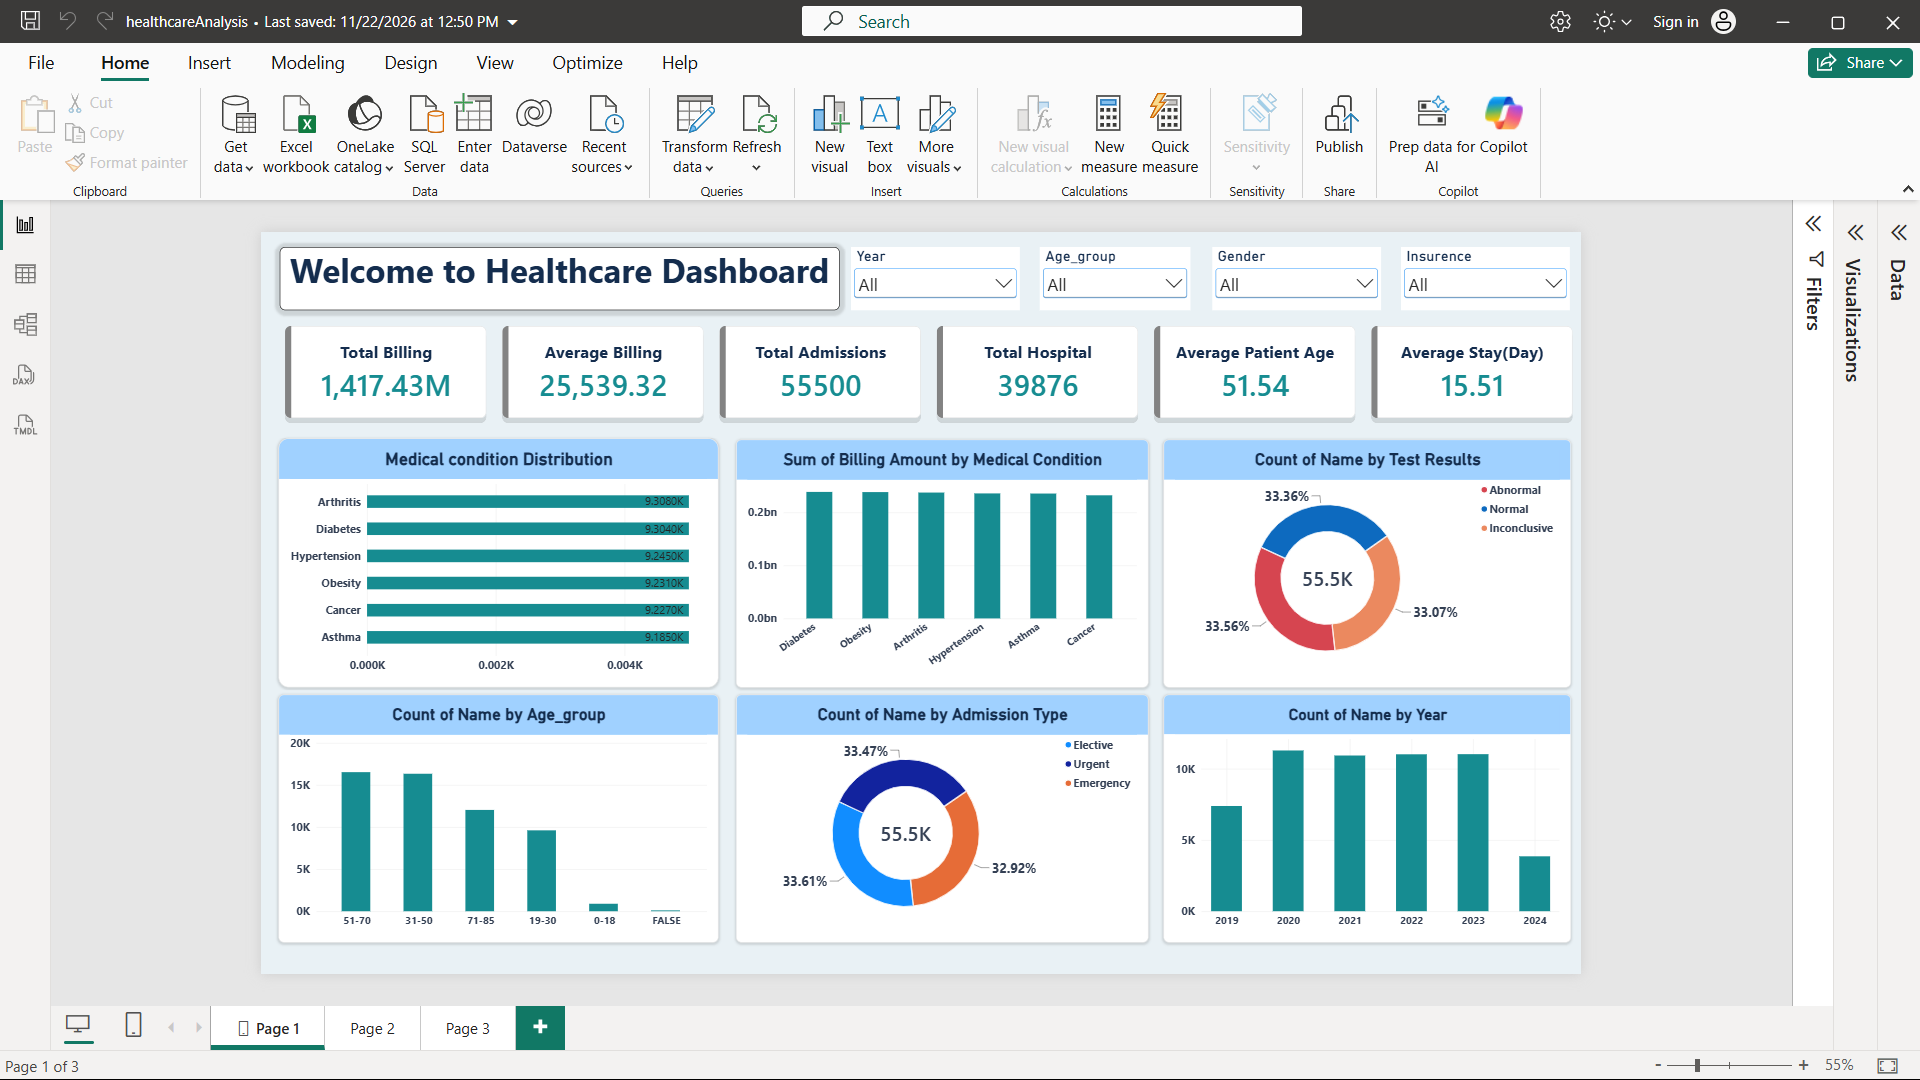

What the dashboard file says about the page in this screenshot:
{"tool":"powerbi","page":{"name":"Page 1","canvas":[1920,1080],"ordinal":0},"visuals":[{"type":"slicer","fields":{"Values":["healthcare_dataset.Date of Admission.Variation.Date Hierarchy.Year"]},"box":[857.4,21.4,246,91.9],"z":0},{"type":"cardVisual","fields":{"Data":["All_measures.Total_Revenue","All_measures.Avg_Billing","All_measures.Total_Patients","All_measures.Total_Hospital","All_measures.Avg_Age","All_measures.Avg_Patient_Stay"]},"box":[27.8,128.3,1892.2,149.7],"z":1000},{"type":"slicer","fields":{"Values":["healthcare_dataset.Age_group"]},"box":[1133.5,21.4,219.1,91.9],"z":2000},{"type":"textbox","box":[27.8,21.4,814.6,91.9],"z":3000},{"type":"slicer","fields":{"Values":["healthcare_dataset.Gender"]},"box":[1382.9,21.4,246,91.9],"z":4000},{"type":"slicer","fields":{"Values":["healthcare_dataset.Insurance Provider"]},"box":[1659.1,21.4,246,91.9],"z":5000},{"type":"clusteredBarChart","title":" Medical condition Distribution","fields":{"Category":["healthcare_dataset.Medical Condition"],"Y":["CountNonNull(healthcare_dataset.Medical Condition)"]},"box":[26.2,300,640.1,362.8],"z":6000},{"type":"columnChart","fields":{"Category":["healthcare_dataset.Age_group"],"Y":["CountNonNull(healthcare_dataset.Name)"]},"box":[26.2,673.3,640.1,361],"z":7000},{"type":"clusteredColumnChart","fields":{"Category":["healthcare_dataset.Medical Condition"],"Y":["Sum(healthcare_dataset.Billing Amount)"]},"box":[690.7,301.7,600,361],"z":8000},{"type":"donutChart","fields":{"Category":["healthcare_dataset.Test Results"],"Y":["CountNonNull(healthcare_dataset.Name)"]},"box":[1313.4,301.7,593,361],"z":9000},{"type":"donutChart","fields":{"Category":["healthcare_dataset.Admission Type"],"Y":["CountNonNull(healthcare_dataset.Name)"]},"box":[691,673,600,361],"z":10000},{"type":"lineStackedColumnComboChart","fields":{"Category":["healthcare_dataset.Date of Admission.Variation.Date Hierarchy.Year","healthcare_dataset.Date of Admission.Variation.Date Hierarchy.Month"],"Y":["CountNonNull(healthcare_dataset.Name)"]},"box":[1313,673,593,361],"z":11000}]}

Visuals, with their boxes on the page's 1920x1080 design canvas (x1, y1, x2, y2). These are canvas units, not pixel positions in the 1920x1080 screenshot, which may show the page scaled, cropped or inside an application window:
slicer - healthcare_dataset.Date of Admission.Variation.Date Hierarchy.Year: 857 21 1103 113
cardVisual - All_measures.Total_Revenue x All_measures.Avg_Billing: 28 128 1920 278
slicer - healthcare_dataset.Age_group: 1134 21 1353 113
textbox: 28 21 842 113
slicer - healthcare_dataset.Gender: 1383 21 1629 113
slicer - healthcare_dataset.Insurance Provider: 1659 21 1905 113
" Medical condition Distribution" clusteredBarChart: 26 300 666 663
columnChart - healthcare_dataset.Age_group x CountNonNull(healthcare_dataset.Name): 26 673 666 1034
clusteredColumnChart - healthcare_dataset.Medical Condition x Sum(healthcare_dataset.Billing Amount): 691 302 1291 663
donutChart - healthcare_dataset.Test Results x CountNonNull(healthcare_dataset.Name): 1313 302 1906 663
donutChart - healthcare_dataset.Admission Type x CountNonNull(healthcare_dataset.Name): 691 673 1291 1034
lineStackedColumnComboChart - healthcare_dataset.Date of Admission.Variation.Date Hierarchy.Year x healthcare_dataset.Date of Admission.Variation.Date Hierarchy.Month: 1313 673 1906 1034
